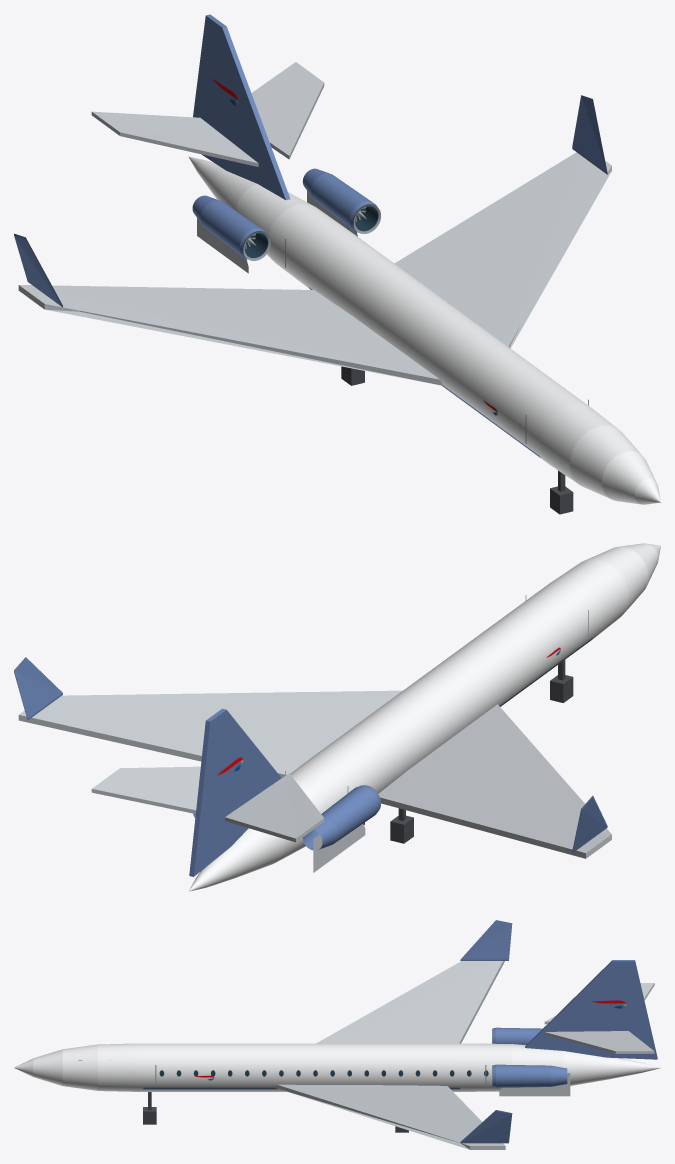
The model's file is crj-BAW-v3.gltf.
3 views of the same model, one above another, from view 1: azimuth 30°, elevation 25°; view 2: azimuth 150°, elevation 25°; view 3: azimuth 270°, elevation 25° (orthographic). The views are drawn at different scales.
Parts seen in each view (by area): view 1: object 1, Gear; view 2: object 1, Gear; view 3: object 1, Gear.
Boxes of the visible parts, x1=… form: object 1: x1=14, y1=14, x2=660, y2=504; Gear: x1=341, y1=366, x2=573, y2=514; object 1: x1=14, y1=543, x2=660, y2=891; Gear: x1=363, y1=660, x2=573, y2=843; object 1: x1=14, y1=920, x2=660, y2=1149; Gear: x1=143, y1=1092, x2=408, y2=1132.
Bounding box in the file's own units: 25 × 9.92 × 36.
8 materials, 1 textured.
